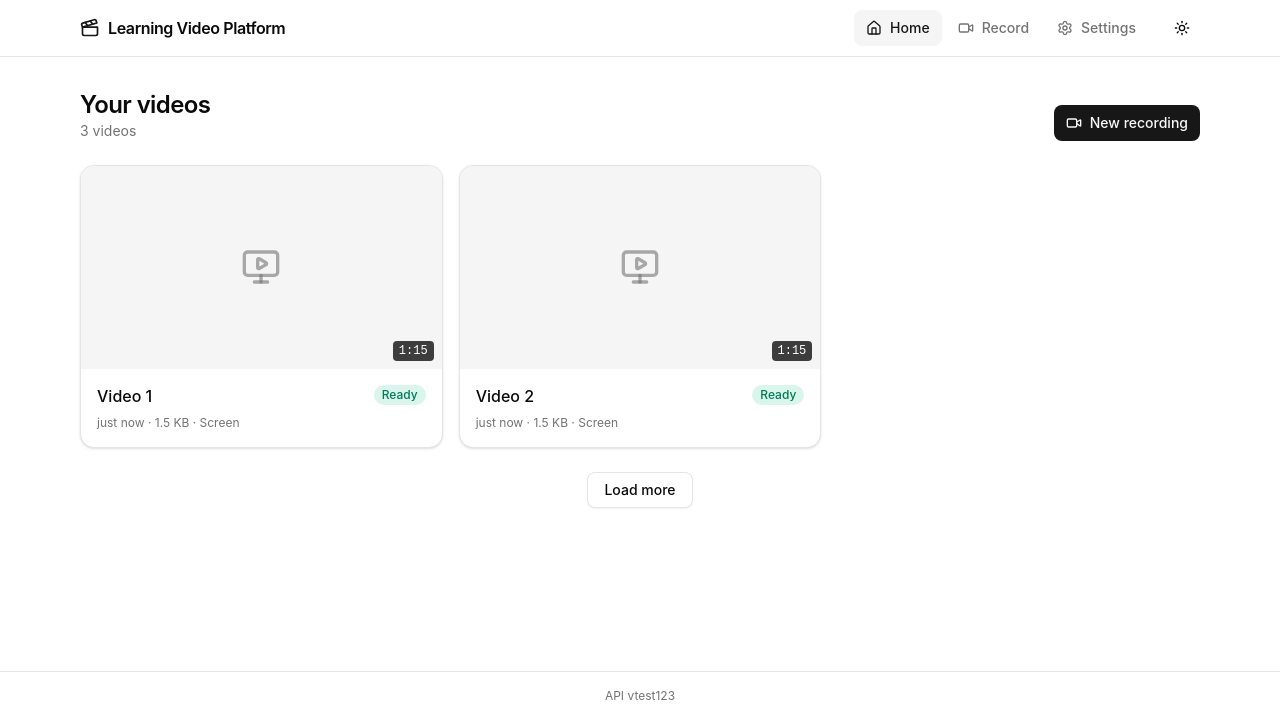
Test case: HomePage › loads the next page with the cursor
What coordinates should you click on to do the following:
click the button "Load more"
I would click on:
 (640, 490)
Its box is left=587, top=472, right=692, bottom=508.
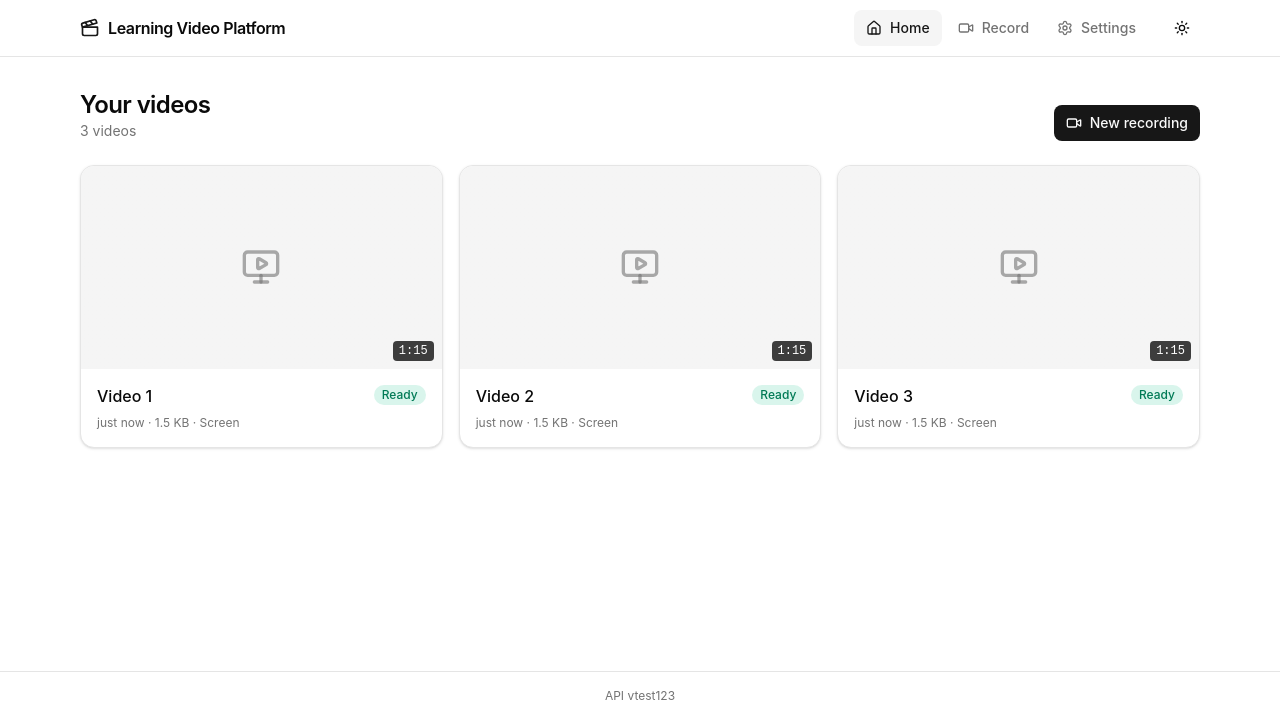
Now the number of elements with test id "video-card" is 3, box left=80, top=165, right=443, bottom=448; left=459, top=165, right=821, bottom=448; left=837, top=165, right=1200, bottom=448
